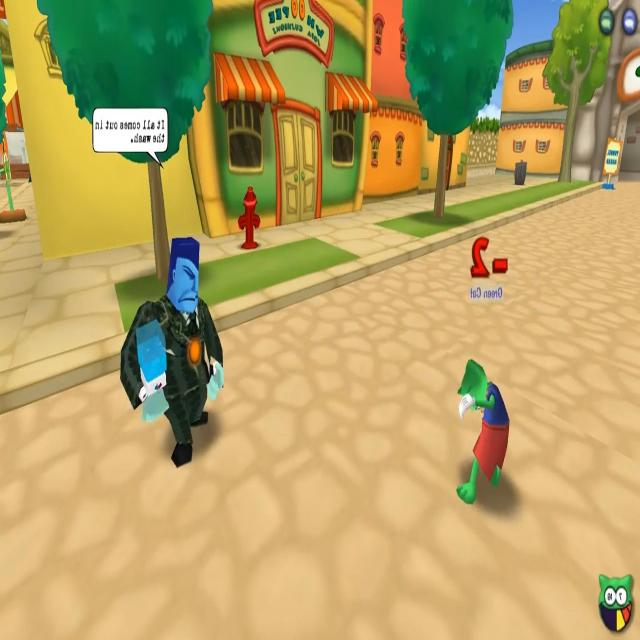shortchange: (90, 106, 228, 474)
